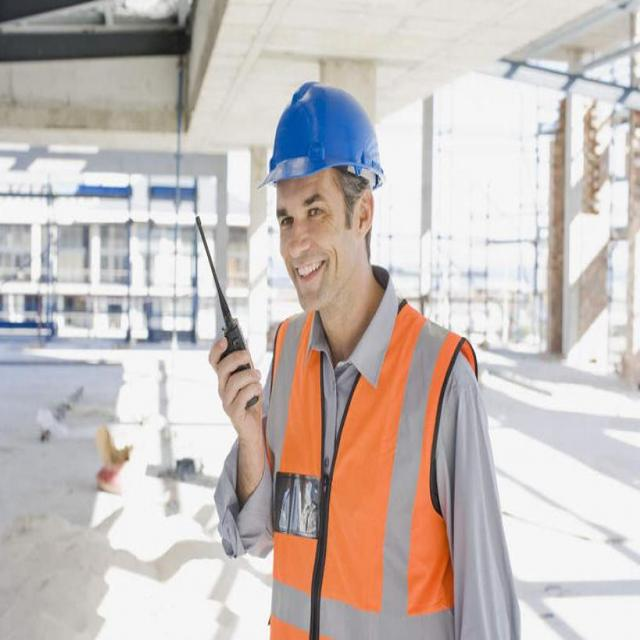Reflective-Jacket: (260, 294, 473, 634)
Safety-Helmet: (257, 76, 391, 195)
